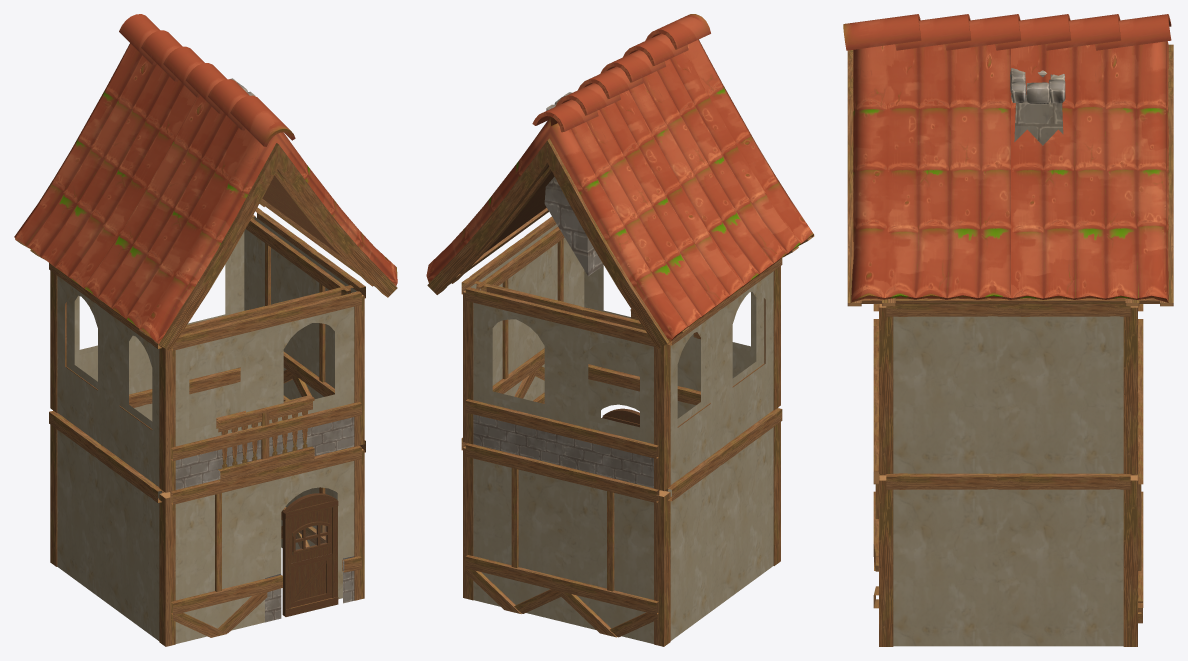
The model's file is House_PlasterA.fbx.
3 views of the same model, side by side, from view 1: azimuth 30°, elevation 25°; view 2: azimuth 150°, elevation 25°; view 3: azimuth 270°, elevation 25° (orthographic). The views are drawn at different scales.
Visible parts, largest first — view 1: House_PlasterA; view 2: House_PlasterA; view 3: House_PlasterA.
Part boxes in pixels (left/top/right/bottom): House_PlasterA: left=14, top=14, right=397, bottom=646; House_PlasterA: left=426, top=14, right=814, bottom=646; House_PlasterA: left=843, top=14, right=1173, bottom=646.
Size of the model in its own units: 540 by 1040 by 540.
